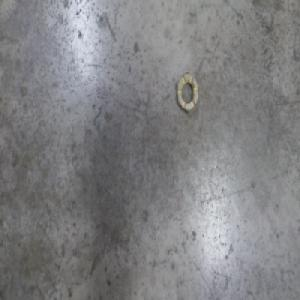Nut: (177, 69, 199, 114)
